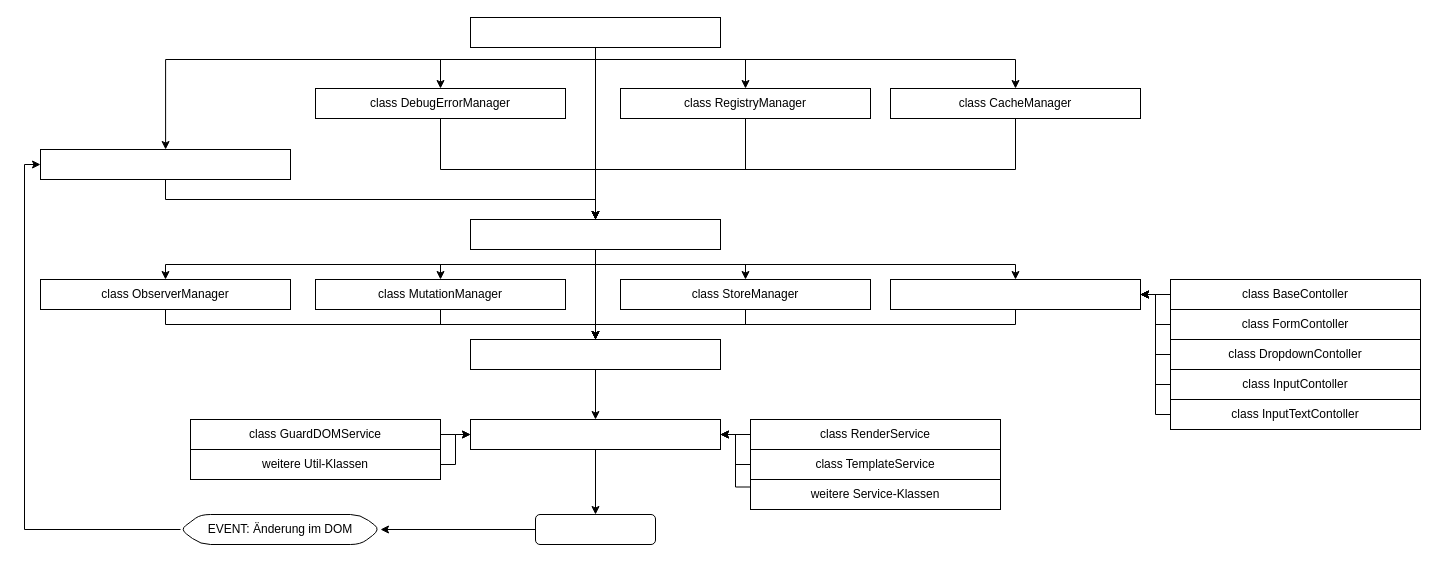
The diagram is 1438 pixels wide and 562 high, and some of its shapes have lost their labels. Here are the shapes that lost their labels. From the top down, the centre of each, then its label:
At point 595,32: "class BootManager".
At point 165,164: "class ScanManager".
At point 595,234: "class PlanManager".
At point 1015,294: "class ControllerManager".
At point 595,354: "class FactoryManager".
At point 595,434: "<mutated-controller>".
At point 595,529: "Übernahme ins DOM".
